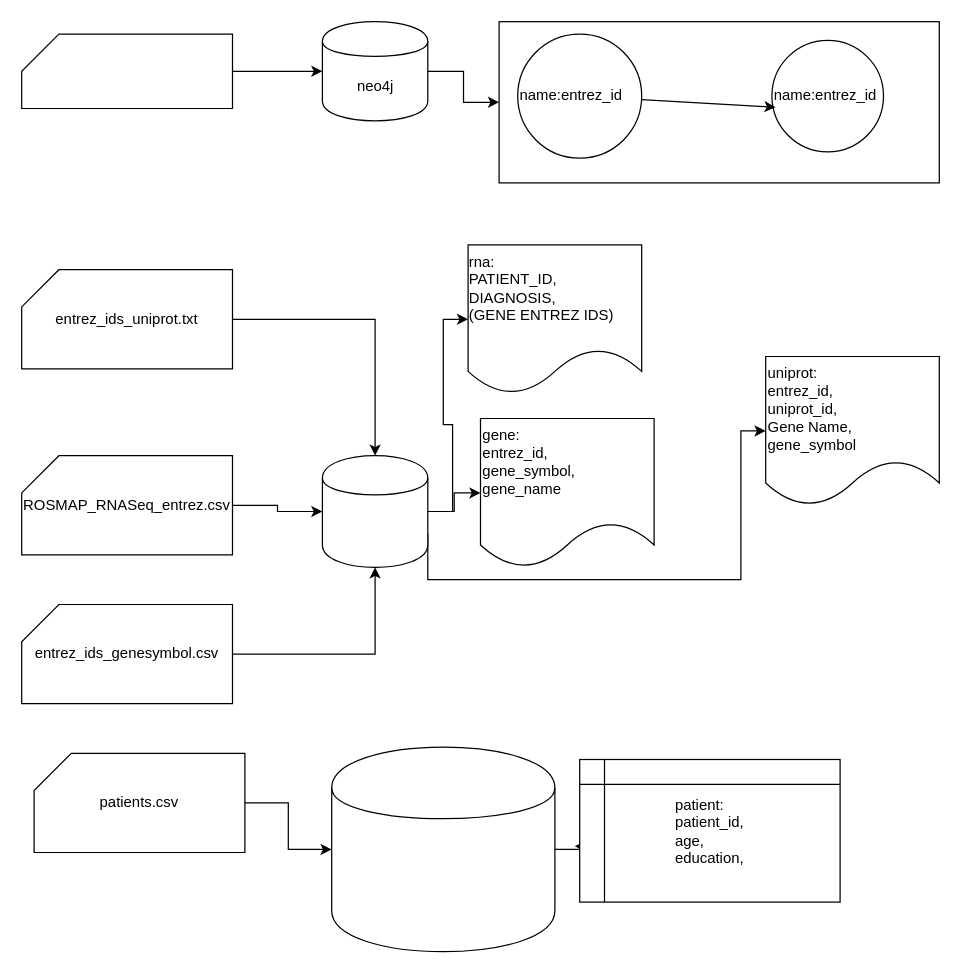
Image size: 961x973. Some labels were removed from this diagram. Here are the shapes that lost their labels. From the top down, the centre of each, then its label:
point (126, 70): PPI.csv
point (374, 510): mongo, (database: 'values')
point (442, 849): cassandra (keyspace: 'patient_info')
